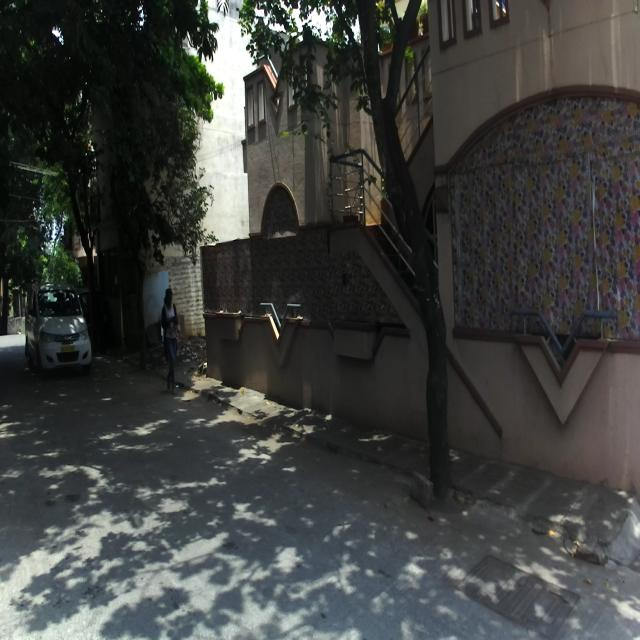car ahead at: (21, 272, 99, 388)
person ahead at: (158, 281, 185, 389)
tree ahead at: (355, 0, 461, 511)
